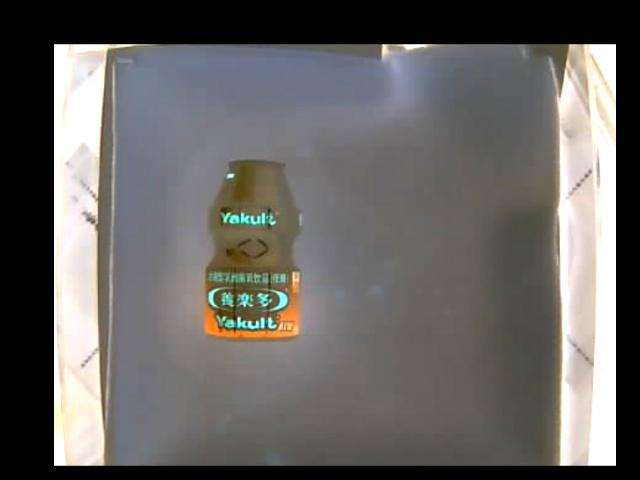Bottle: (205, 158, 298, 340)
